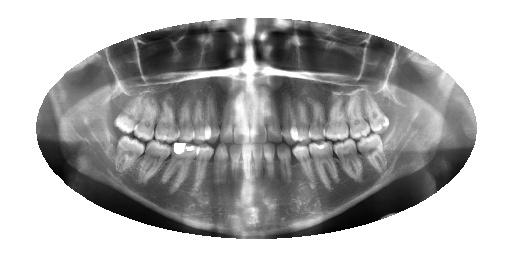i10healthy: (225, 139, 243, 189)
i11healthy: (211, 141, 231, 190)
i12healthy: (190, 142, 216, 193)
i13healthy: (157, 140, 202, 197)
i14healthy: (136, 140, 174, 190)
i15healthy: (107, 130, 147, 178)
i2healthy: (352, 134, 390, 179)
i3healthy: (326, 138, 367, 184)
i4healthy: (304, 139, 341, 192)
i5healthy: (289, 142, 319, 195)
i6healthy: (275, 140, 292, 192)
i7healthy: (260, 142, 278, 188)
i8healthy: (249, 143, 266, 187)
i9healthy: (238, 142, 254, 190)
u10healthy: (217, 97, 237, 146)
u11healthy: (202, 90, 222, 146)
u12healthy: (189, 91, 212, 148)
u13healthy: (174, 95, 198, 145)
u14healthy: (152, 95, 183, 146)
u15decay: (128, 94, 160, 146)
u16healthy: (112, 87, 149, 139)
u1healthy: (358, 85, 394, 139)
u2healthy: (345, 90, 372, 144)
u3healthy: (322, 90, 351, 143)
u4healthy: (304, 94, 327, 144)
u5healthy: (284, 92, 312, 146)
u6chipped: (277, 94, 299, 149)
u7healthy: (262, 93, 284, 145)
u8healthy: (248, 93, 267, 145)
u9healthy: (231, 90, 252, 146)
